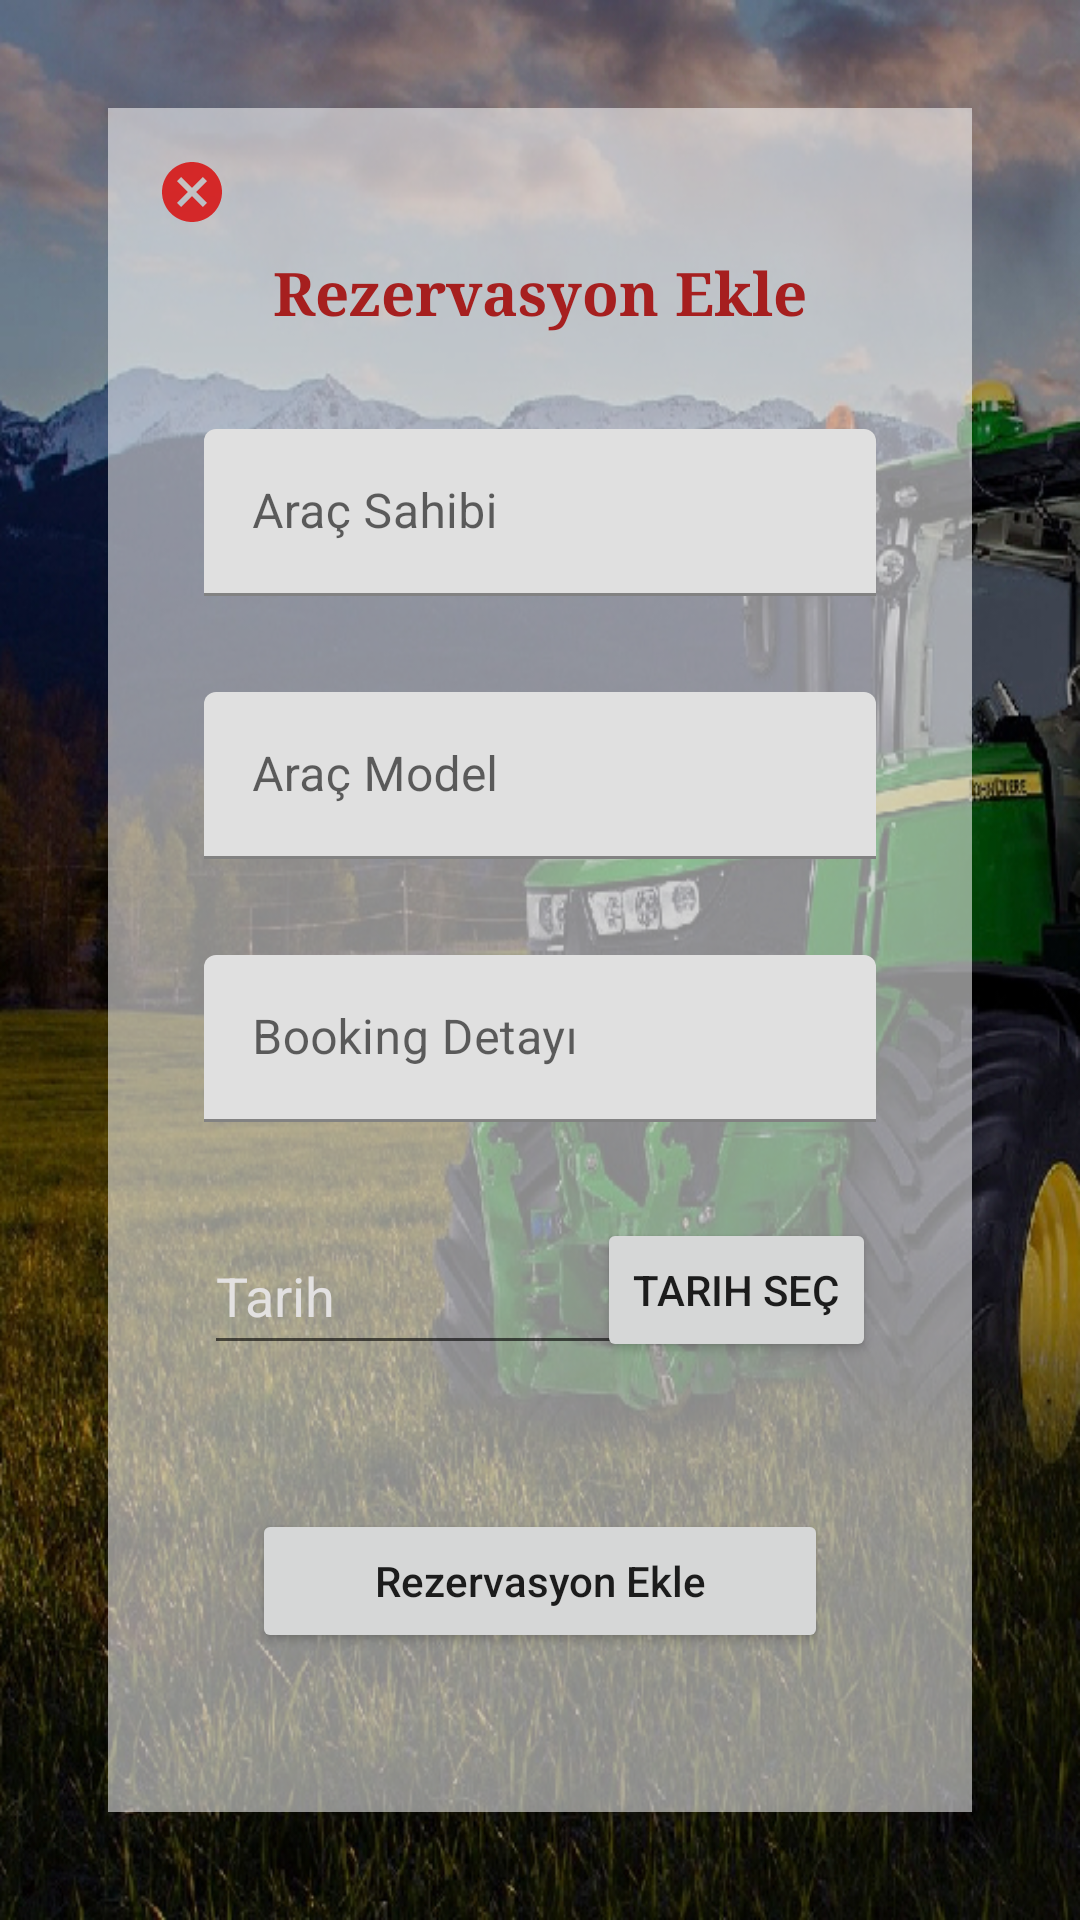

Icon bounding boxes for this 1080 x 1920 phone screenshot, format (x1,y1,x2,y2):
cansel: (162,162,222,222)
